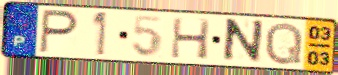1: (90, 10, 110, 59)
5: (131, 14, 165, 59)
H: (169, 16, 213, 61)
N: (219, 17, 266, 65)
P: (37, 8, 81, 56)
Q: (263, 21, 305, 67)
